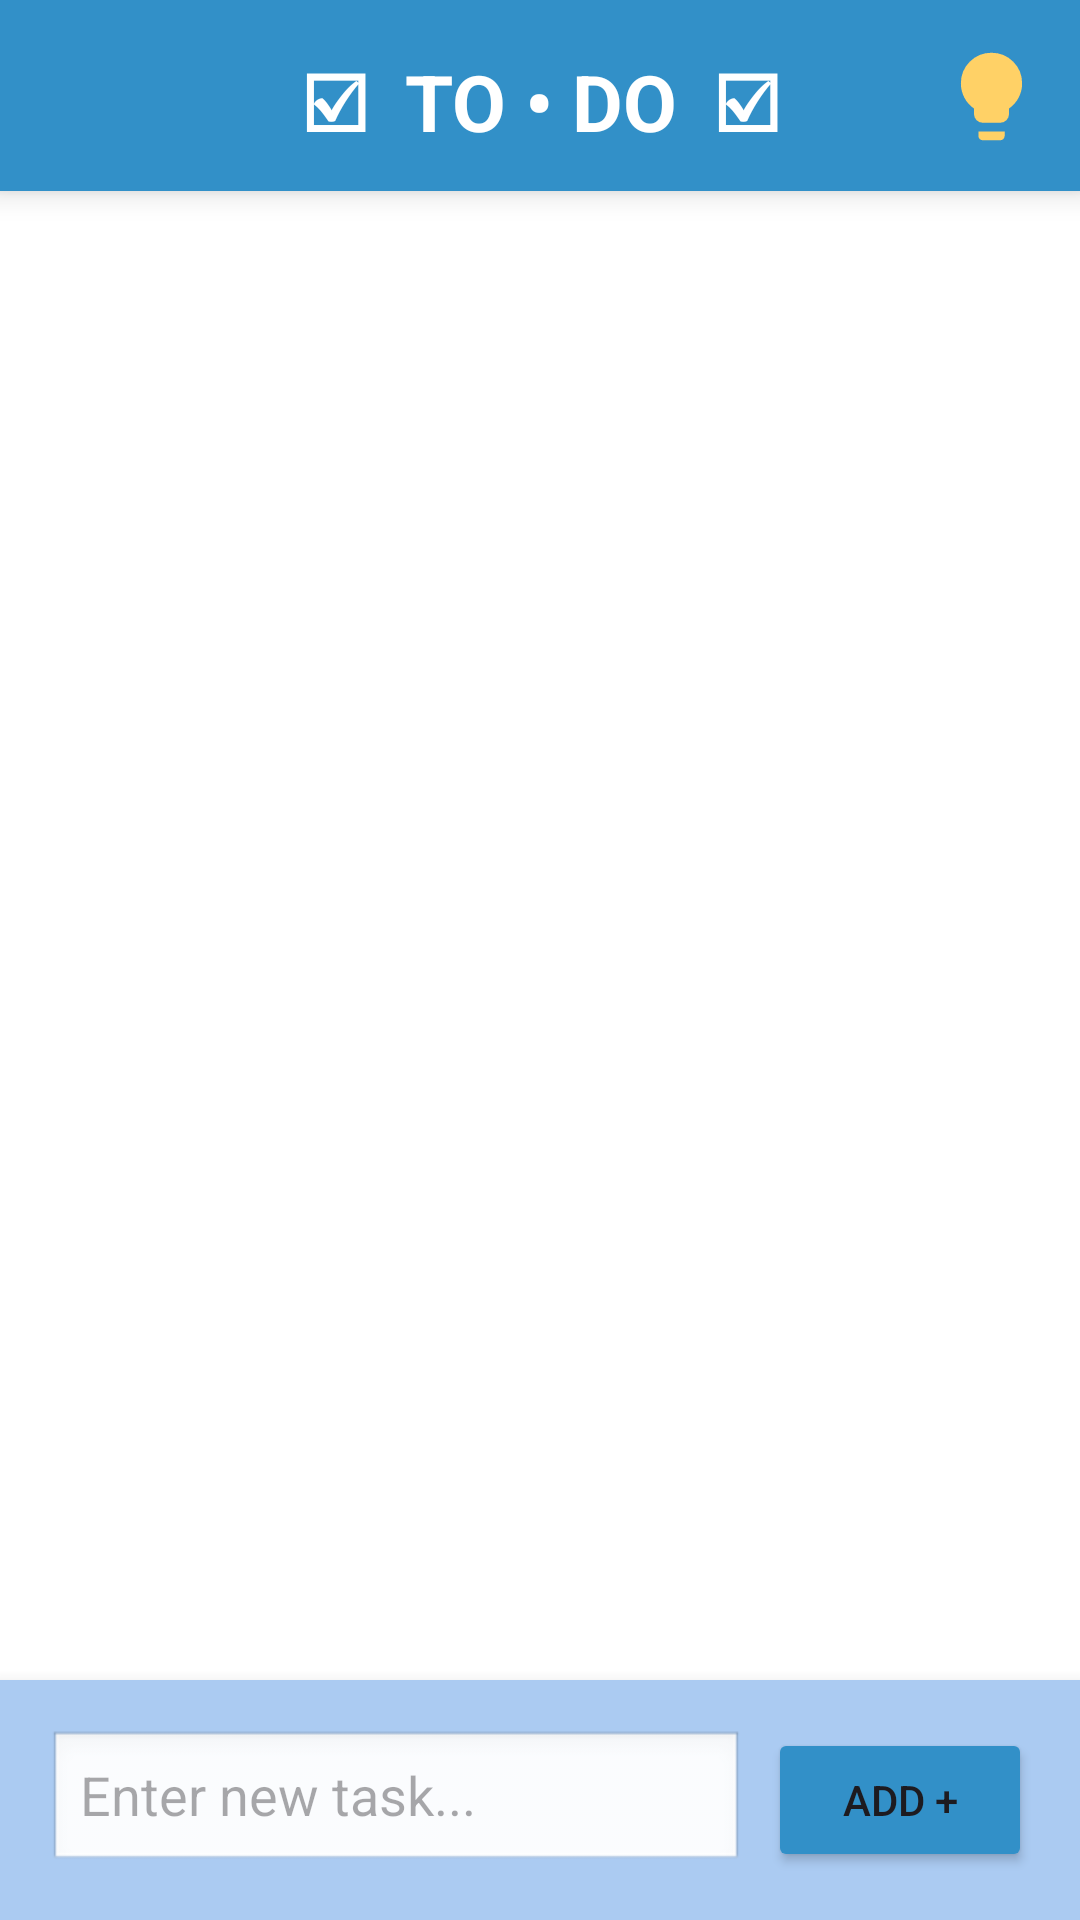

Where icons sit on this 1080px×1920px app screen, as (x1, y1, x2, y2):
suggestion: (961, 52, 1022, 141)
